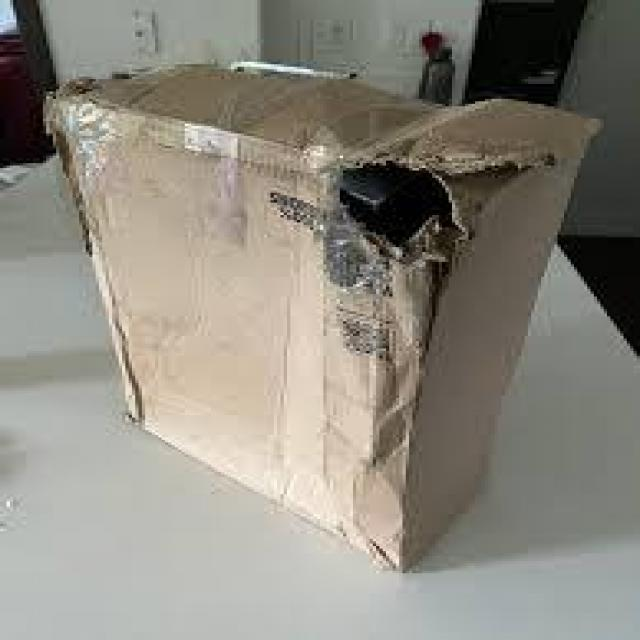damaged: (317, 146, 498, 341)
